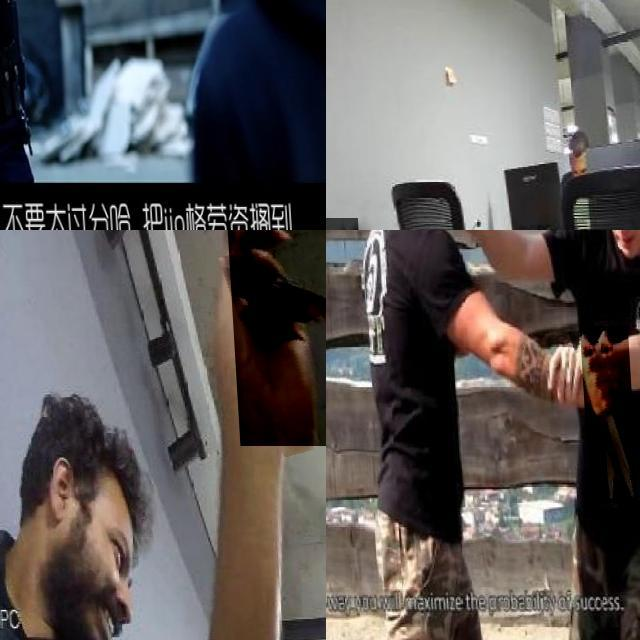-: (224, 230, 326, 445), (576, 326, 632, 503)
gun-knife-thesis - v11 Yolov5 augmented: (0, 0, 23, 39)
